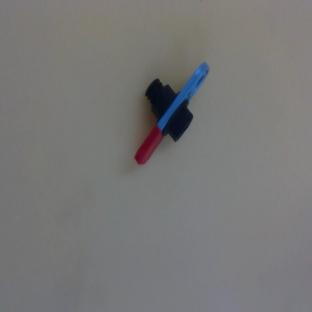part_1_good: (123, 47, 211, 175)
